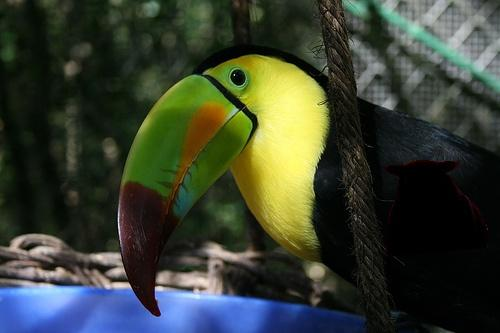tampered: (385, 161, 488, 256)
